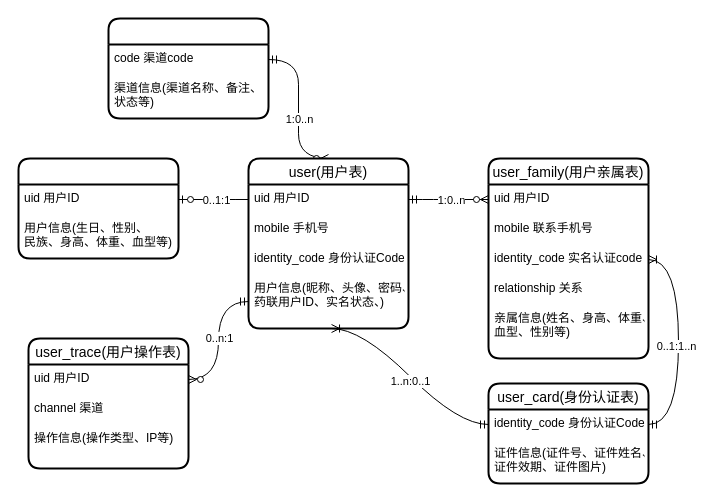
Image size: 713x503. Some labels were removed from this diagram. The box of each missing label's shape, as (x1, y1, x2, y2) in pixels:
channel(渠道表): (107, 17, 269, 119)
user_info(用户信息表): (17, 157, 179, 259)
